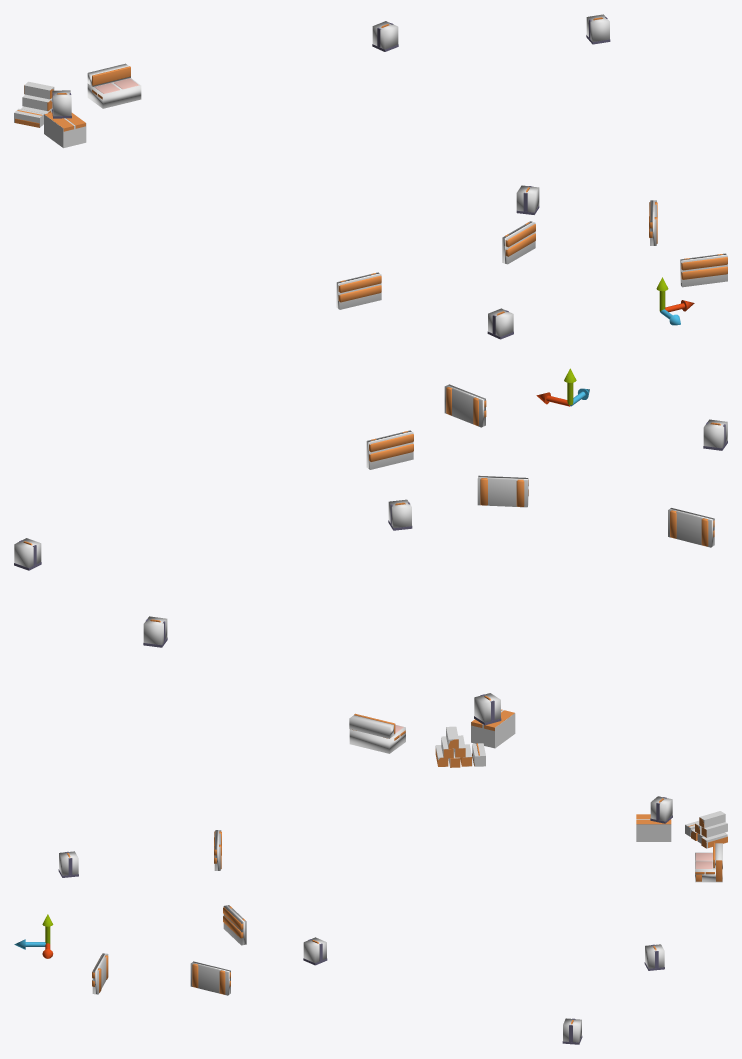
The model's file is sceneryDynamic.glb.
The picture shows the model from 3 angles, top to bottom: view 1: azimuth 30°, elevation 25°; view 2: azimuth 150°, elevation 25°; view 3: azimuth 270°, elevation 25°; orthographic projection. The views are drawn at different scales.
Parts seen in each view (by area): view 1: cube, cube.017, bench, fence.003, fence.002, cube.004, cube.002, gizmo, Cube.053, cube.003, Cube.158, Cube.138 (+1 smaller); view 2: cube.003, cube.002, cube.004, cube, cube.017, fence.004, cube.005, cube.001, gizmo, Cube.138; view 3: cube.005, cube.017, bench, gizmo, Cube.048, Cube.049.
Part boxes in pixels (box(x1,y1,x2,y2)): cube: box(87, 78, 141, 108); cube.017: box(44, 114, 86, 148); bench: box(92, 66, 139, 99); fence.003: box(681, 254, 727, 279); fence.002: box(338, 273, 381, 302); cube.004: box(680, 253, 727, 287); cube.002: box(336, 272, 381, 309); gizmo: box(656, 277, 694, 325); Cube.053: box(372, 21, 398, 49); cube.003: box(502, 221, 535, 264); Cube.158: box(488, 308, 513, 336); Cube.138: box(586, 14, 609, 41); cube.003: box(477, 475, 528, 507); cube.002: box(668, 508, 714, 547); cube.004: box(444, 384, 485, 427); cube: box(349, 724, 405, 753); cube.017: box(471, 710, 515, 748); fence.004: box(369, 431, 413, 461); cube.005: box(366, 430, 413, 469); cube.001: box(349, 715, 395, 738); gizmo: box(536, 368, 589, 406); Cube.138: box(14, 538, 41, 567); cube.005: box(190, 961, 230, 995); cube.017: box(636, 819, 671, 841); bench: box(695, 842, 722, 881); gizmo: box(14, 914, 53, 958); Cube.048: box(303, 937, 326, 963); Cube.049: box(650, 796, 672, 821).
Size of the model in its own units: 26.78 by 2.21 by 35.27.
